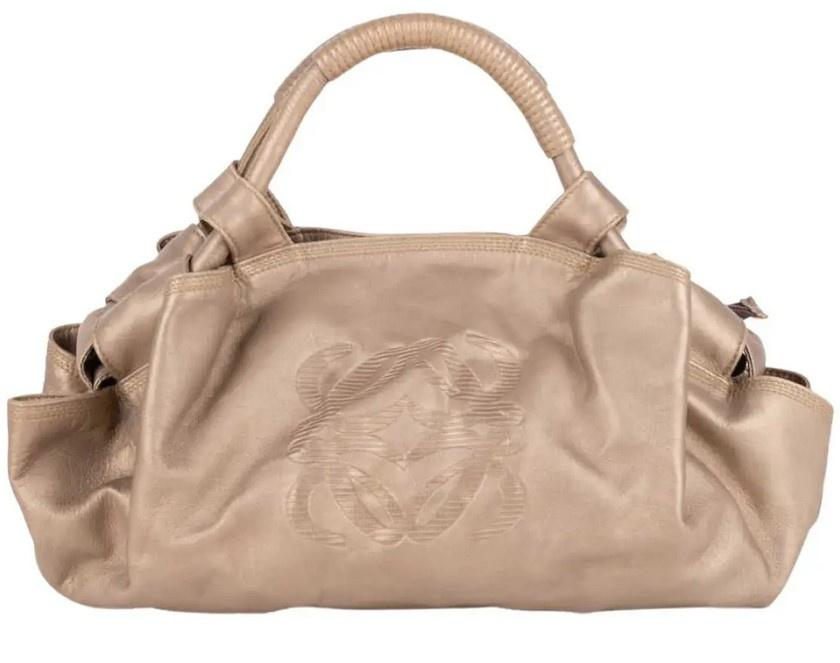LOEWE: (283, 317, 546, 565)
